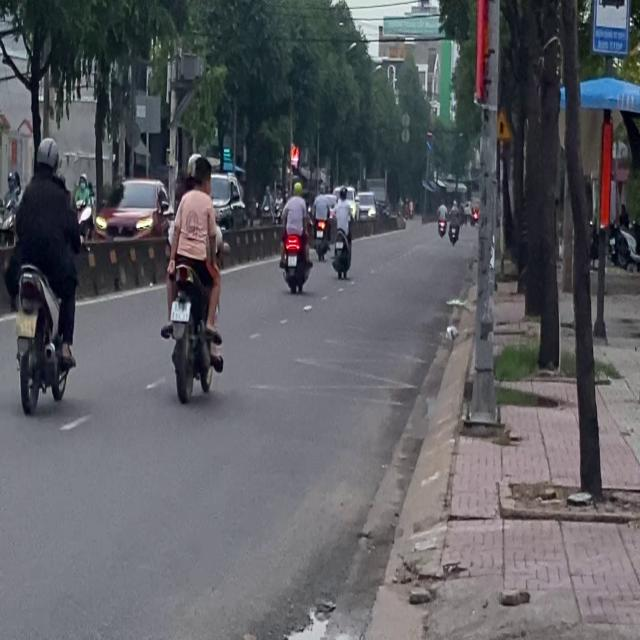helmet: (34, 136, 59, 174)
licenseplate: (4, 134, 80, 414), (159, 150, 225, 400)
motorcyclist: (192, 154, 213, 200)
nohelmet: (14, 312, 36, 336), (170, 300, 189, 320)
